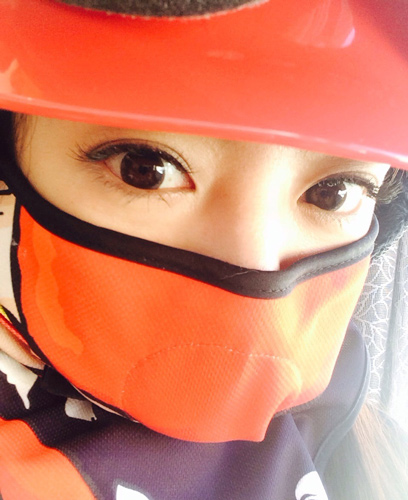face_mask: (18, 4, 398, 433)
